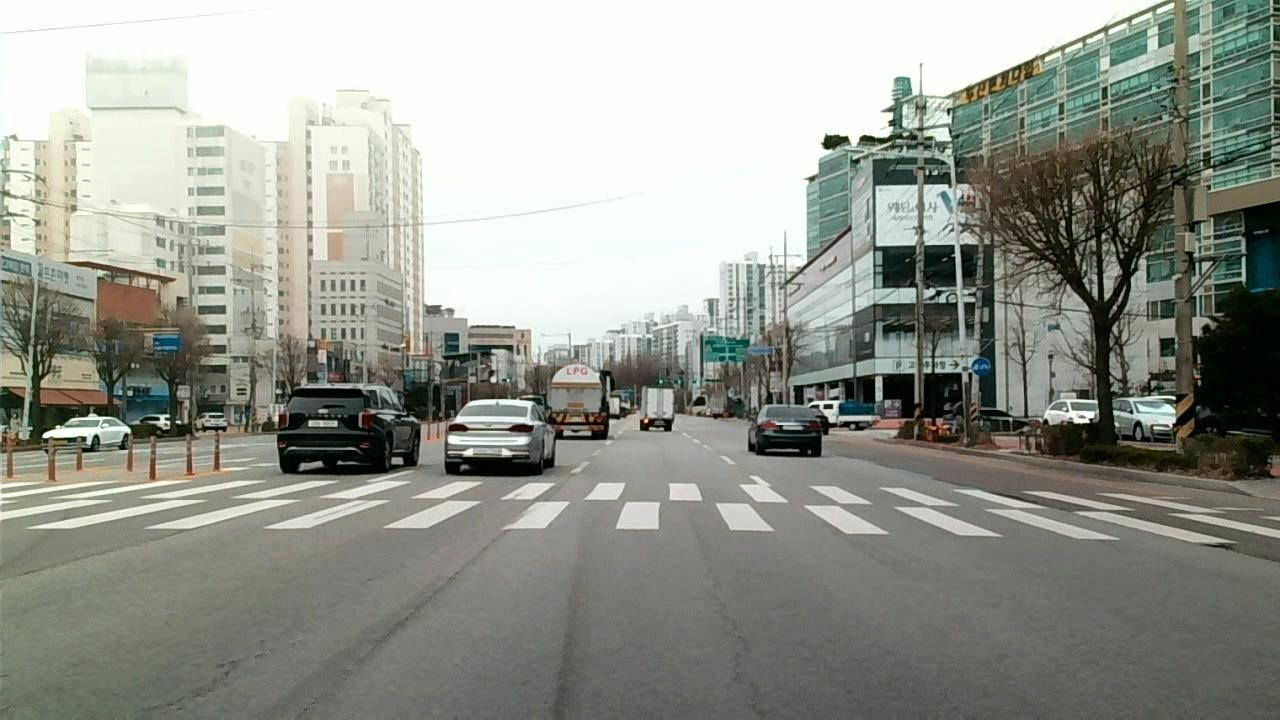vcrack: (293, 612, 415, 720), (696, 552, 761, 720), (153, 640, 271, 720), (422, 531, 511, 596), (5, 551, 104, 581), (981, 488, 1062, 512), (105, 530, 189, 553), (1205, 543, 1277, 564), (919, 471, 979, 489), (857, 459, 913, 473)
